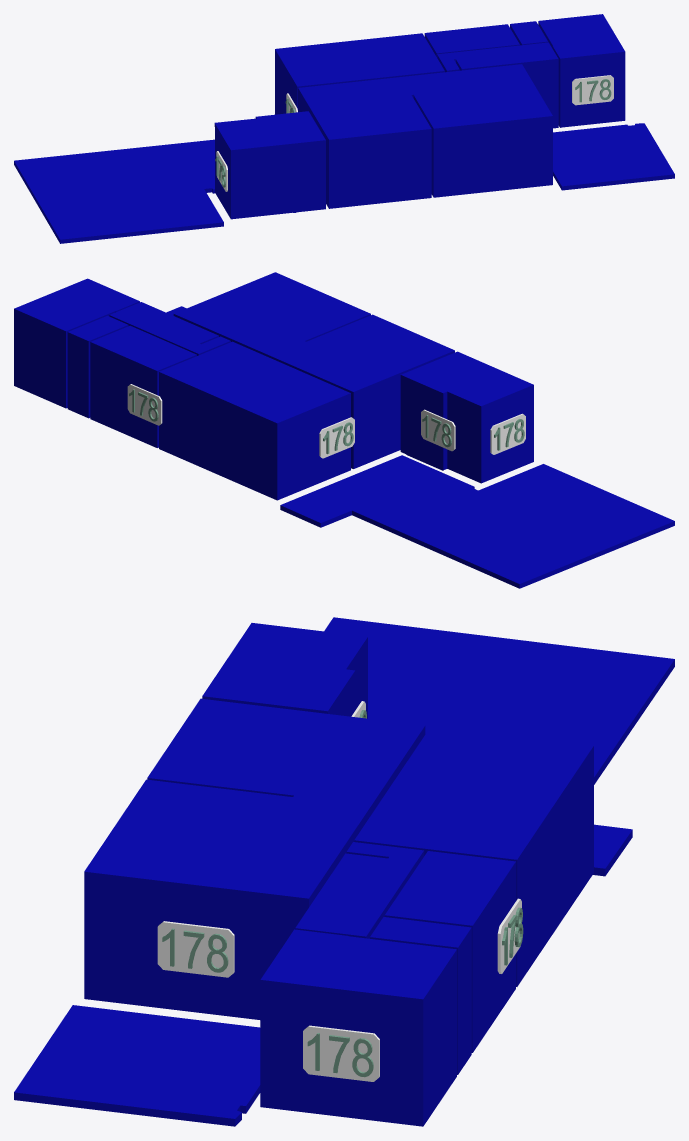
3 renders of one model, top to bottom at view 1: azimuth 30°, elevation 25°; view 2: azimuth 150°, elevation 25°; view 3: azimuth 270°, elevation 25°, orthographic. The views are drawn at different scales.
Parts seen in each view (by area): view 1: g_9, g_7, g_6, g_0, g_1, g_2, g_8, g_3, g_4, g_33, g_5; view 2: g_9, g_1, g_0, g_6, g_7, g_2, g_4, g_3, g_5, g_29, g_13, g_17 (+1 smaller); view 3: g_7, g_2, g_1, g_9, g_8, g_6, g_0, g_4, g_3, g_5, g_21, g_37 (+1 smaller).
Part boxes in pixels (x1,y1,x2,y2): g_9: (14, 118, 255, 243); g_7: (403, 64, 552, 197); g_6: (298, 77, 431, 208); g_0: (215, 111, 325, 219); g_1: (275, 33, 444, 114); g_2: (538, 14, 625, 127); g_8: (553, 123, 674, 190); g_3: (437, 42, 558, 128); g_4: (424, 24, 519, 57); g_33: (572, 75, 613, 105); g_5: (510, 21, 548, 45); g_9: (280, 455, 674, 588); g_1: (159, 341, 350, 500); g_0: (400, 351, 533, 483); g_6: (269, 314, 454, 468); g_7: (173, 272, 370, 357); g_2: (14, 278, 139, 408); g_4: (90, 325, 196, 447); g_3: (109, 302, 230, 355); g_5: (67, 316, 128, 418); g_29: (127, 384, 162, 425); g_13: (319, 417, 354, 458); g_17: (490, 413, 525, 454); g_7: (84, 779, 370, 1019); g_2: (260, 929, 456, 1126); g_1: (354, 726, 593, 986); g_9: (324, 617, 674, 876); g_8: (14, 1005, 260, 1126); g_6: (147, 698, 425, 815); g_0: (202, 623, 367, 718); g_4: (384, 851, 515, 1052); g_3: (295, 842, 424, 938); g_5: (370, 917, 471, 1074); g_21: (157, 921, 234, 977); g_37: (303, 1025, 379, 1081).
Bounding box in the file's own units: 21.35 × 2.65 × 11.69.
